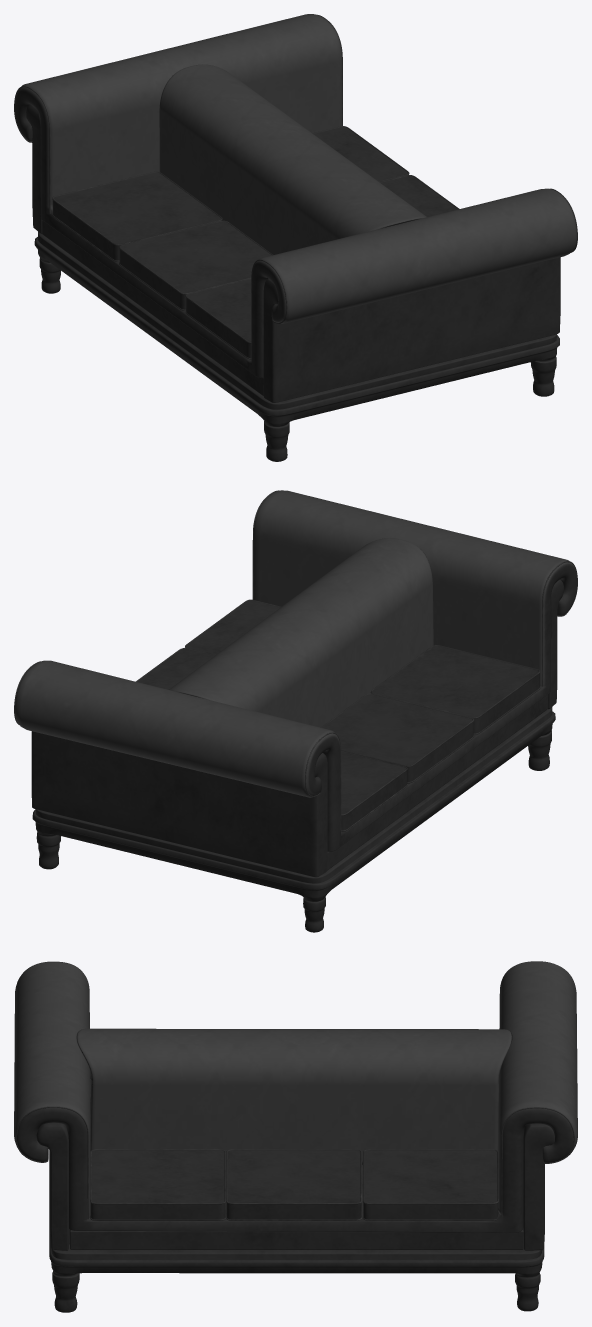
Rendered from sofa3.fbx.
The picture shows the model from 3 angles, top to bottom: view 1: azimuth 30°, elevation 25°; view 2: azimuth 150°, elevation 25°; view 3: azimuth 270°, elevation 25°; orthographic projection. The views are drawn at different scales.
Visible parts, largest first — view 1: FG Chester Field Sofa.Shape; view 2: FG Chester Field Sofa.Shape; view 3: FG Chester Field Sofa.Shape.
Part boxes in pixels (x1=…): FG Chester Field Sofa.Shape: x1=14, y1=14, x2=577, y2=461; FG Chester Field Sofa.Shape: x1=14, y1=490, x2=577, y2=932; FG Chester Field Sofa.Shape: x1=14, y1=961, x2=577, y2=1312.
Bounding box in the file's own units: 114 × 75.24 × 182.
